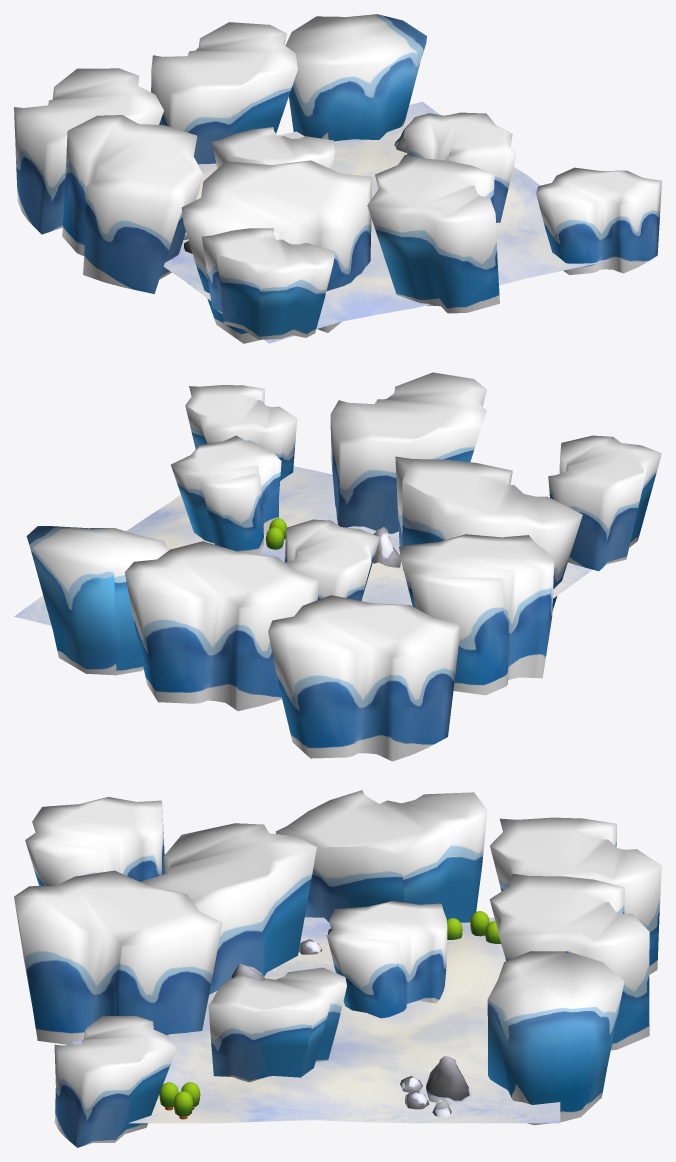
The model's file is IceBigMap1.FBX.
3 renders of one model, top to bottom at view 1: azimuth 30°, elevation 25°; view 2: azimuth 150°, elevation 25°; view 3: azimuth 270°, elevation 25°, orthographic. The views are drawn at different scales.
Visible parts, largest first — view 1: Iceberg023, Iceberg027, Iceberg024, Iceberg022, Iceberg021, tereno1, Iceberg032, Iceberg025, Iceberg020, Iceberg031, Iceberg029; view 2: Iceberg020, Iceberg021, Iceberg023, Iceberg027, Iceberg022, Iceberg024, Iceberg032, Iceberg031, tereno1, Iceberg025, Iceberg029, Stone009; view 3: tereno1, Iceberg027, Iceberg023, Iceberg022, Iceberg024, Iceberg021, Iceberg031, Iceberg025, Iceberg029, Iceberg020, Iceberg032, Stone005.
Part boxes in pixels (<box>): Iceberg023: <box>62,115,203,293</box>; Iceberg027: <box>367,154,499,313</box>; Iceberg024: <box>181,160,372,343</box>; Iceberg022: <box>285,14,426,141</box>; Iceberg021: <box>151,22,297,164</box>; tereno1: <box>163,102,610,343</box>; Iceberg032: <box>202,228,335,339</box>; Iceberg025: <box>536,167,661,274</box>; Iceberg020: <box>14,68,163,234</box>; Iceberg031: <box>404,112,516,222</box>; Iceberg029: <box>211,127,334,169</box>; Iceberg020: <box>268,595,461,761</box>; Iceberg021: <box>124,541,320,711</box>; Iceberg023: <box>399,534,554,695</box>; Iceberg027: <box>330,372,486,533</box>; Iceberg022: <box>26,526,168,675</box>; Iceberg024: <box>395,456,582,610</box>; Iceberg032: <box>548,435,661,571</box>; Iceberg031: <box>171,435,281,554</box>; tereno1: <box>14,466,591,625</box>; Iceberg025: <box>185,385,297,480</box>; Iceberg029: <box>284,519,379,600</box>; Stone009: <box>373,527,401,567</box>; tereno1: <box>73,917,560,1123</box>; Iceberg027: <box>14,870,222,1044</box>; Iceberg023: <box>275,790,487,922</box>; Iceberg022: <box>487,951,624,1125</box>; Iceberg024: <box>140,823,316,994</box>; Iceberg021: <box>489,873,649,1050</box>; Iceberg031: <box>208,967,346,1082</box>; Iceberg025: <box>54,1016,176,1147</box>; Iceberg029: <box>327,901,447,1018</box>; Iceberg020: <box>490,817,661,974</box>; Iceberg032: <box>25,797,164,885</box>; Stone005: <box>426,1056,471,1104</box>.
Bounding box in the file's own units: 631 × 183 × 666.
